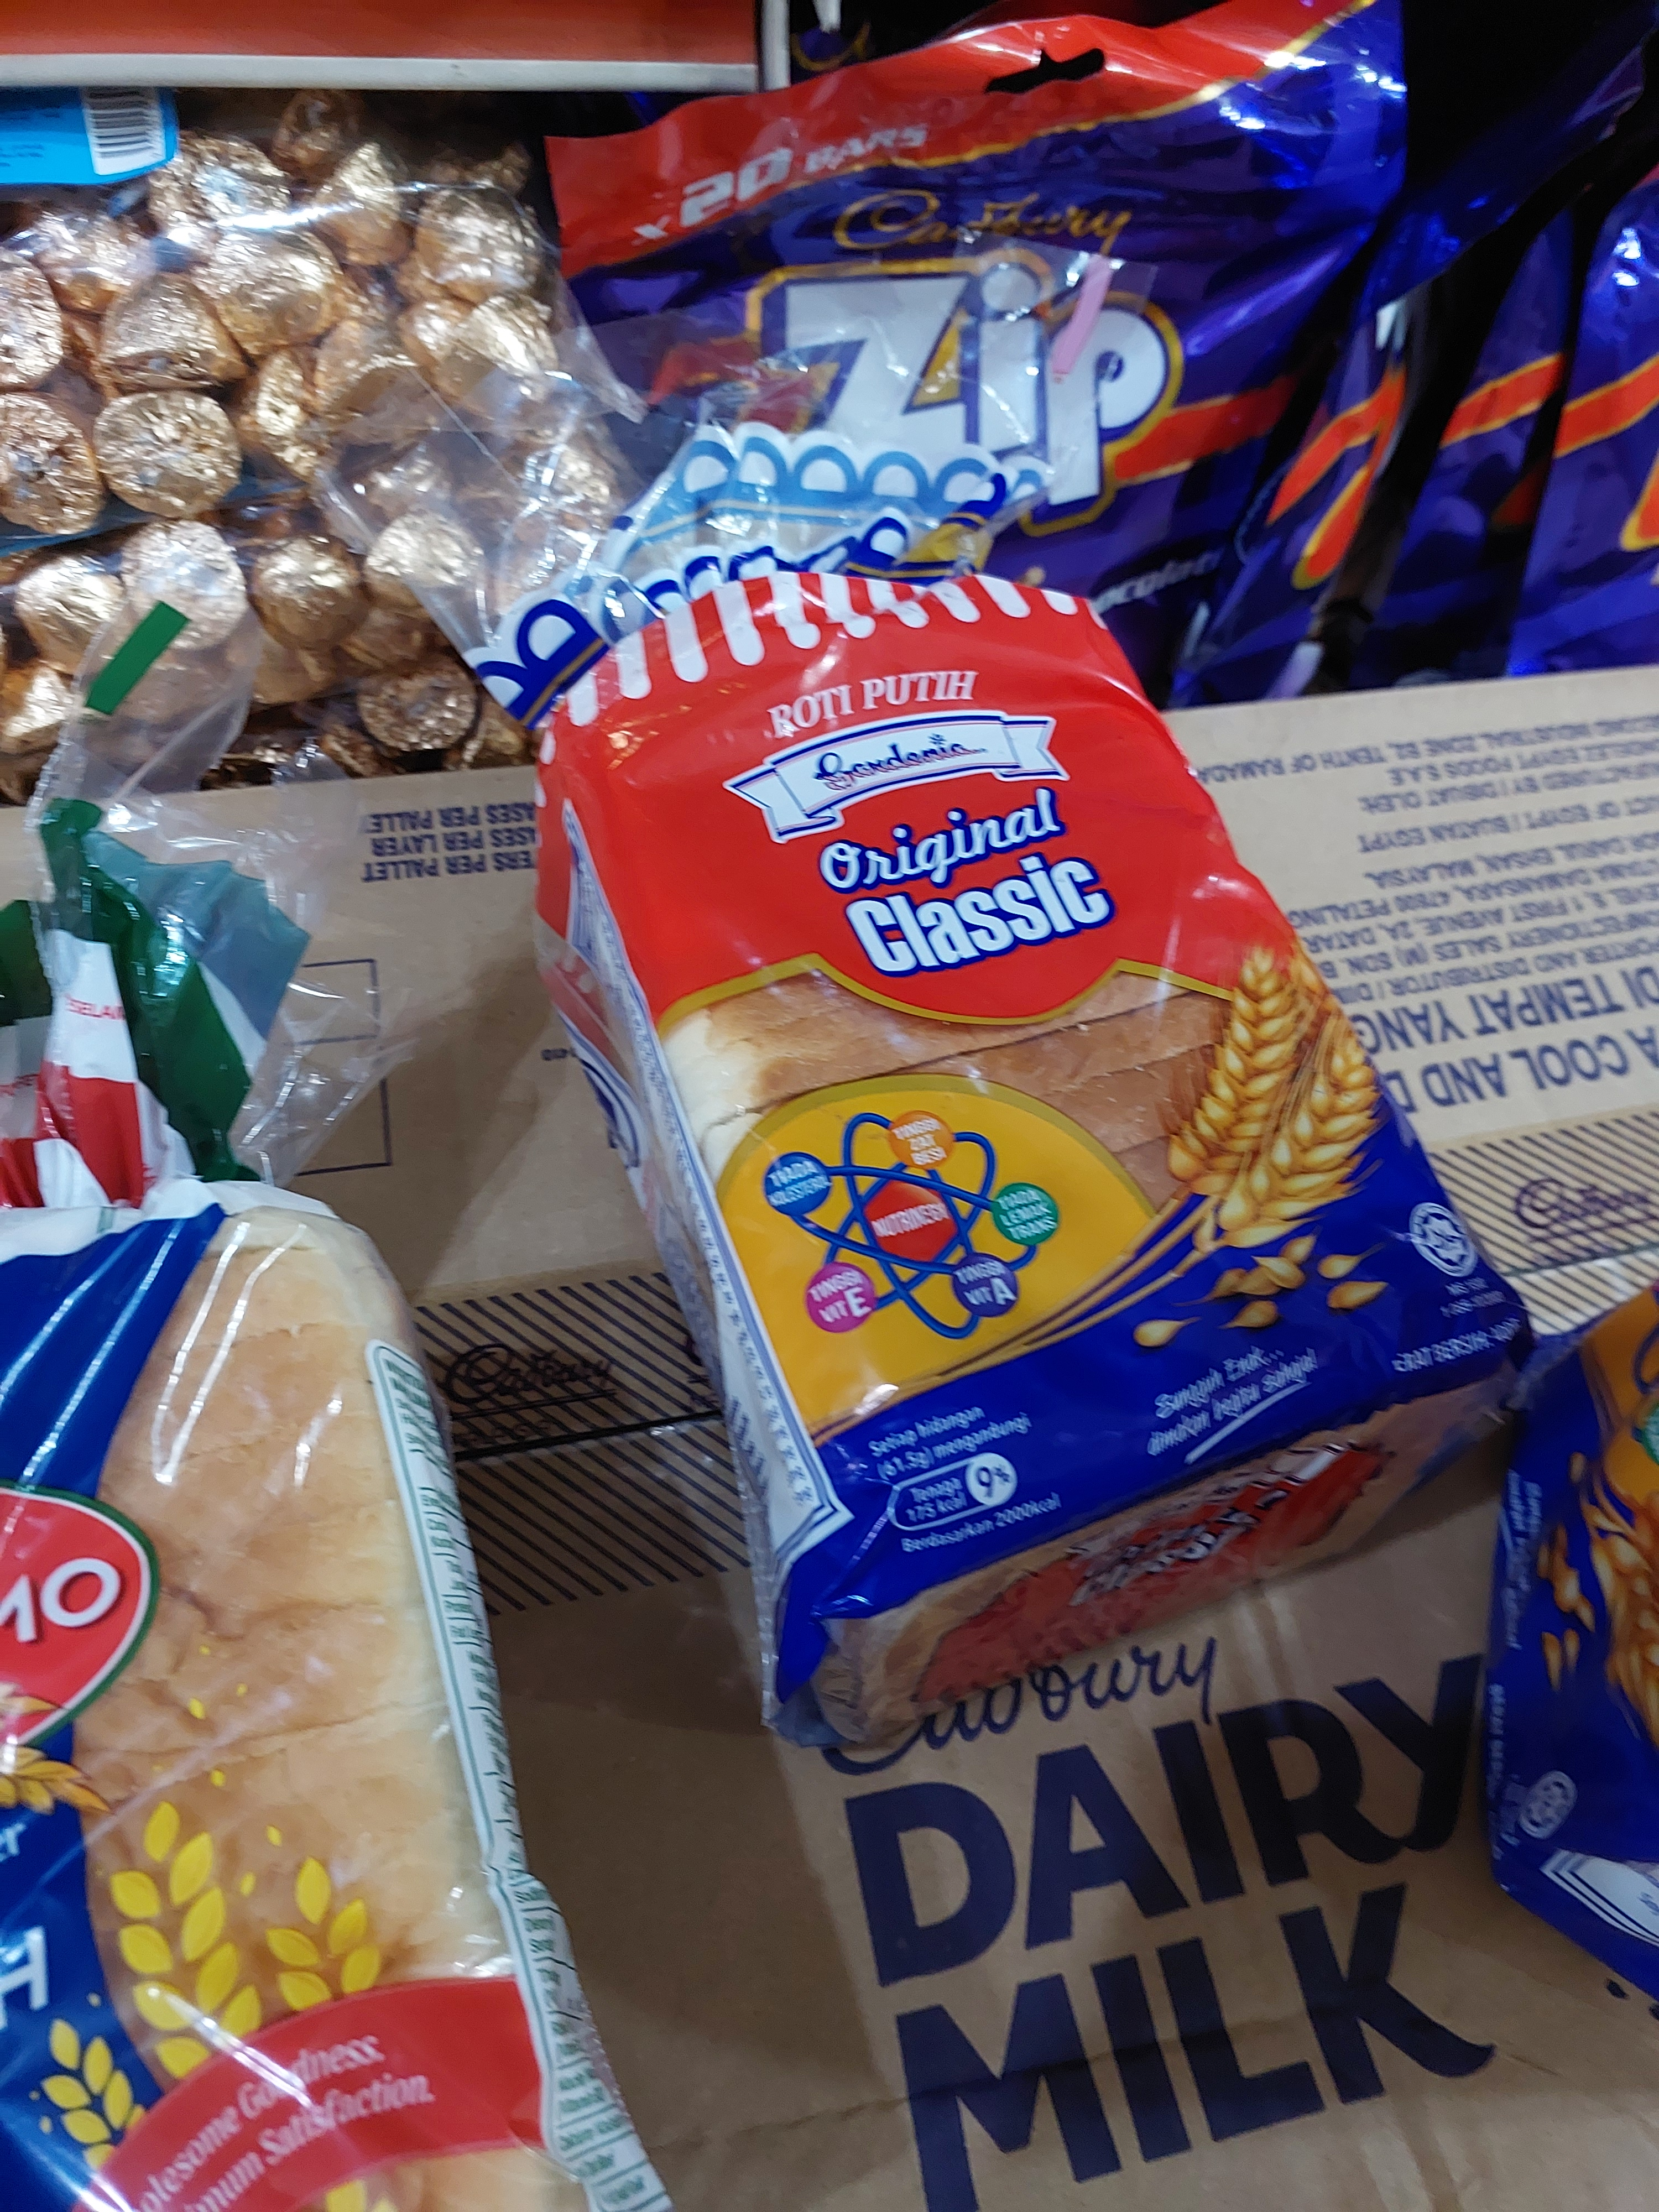bread: (509, 467, 1537, 1745)
